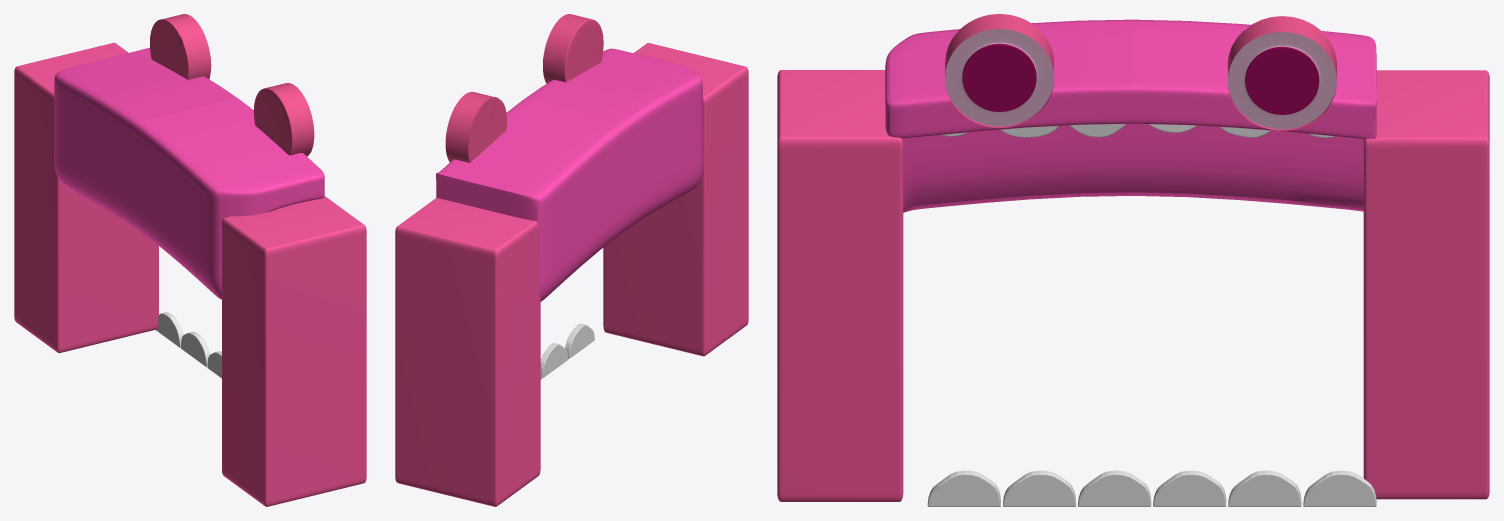
The model's file is DoorDash.fbx.
3 views of the same model, side by side, from view 1: azimuth 30°, elevation 25°; view 2: azimuth 150°, elevation 25°; view 3: azimuth 270°, elevation 25° (orthographic). The views are drawn at different scales.
Parts seen in each view (by area): view 1: Plane.001, Plane.003, Circle.003, Circle.005; view 2: Plane.001, Plane.003, Circle.003, Circle.005; view 3: Plane.001, Plane.003, Circle.003, Circle.005.
Boxes of the visible parts, <box> form: Plane.001: <box>14,42,366,506</box>; Plane.003: <box>54,47,324,299</box>; Circle.003: <box>150,14,314,156</box>; Circle.005: <box>155,312,221,378</box>; Plane.001: <box>395,43,748,506</box>; Plane.003: <box>436,48,702,301</box>; Circle.003: <box>445,14,603,162</box>; Circle.005: <box>540,323,594,379</box>; Plane.001: <box>777,70,1489,501</box>; Plane.003: <box>885,19,1376,212</box>; Circle.003: <box>945,14,1337,130</box>; Circle.005: <box>927,124,1376,506</box>.
Bounding box in the file's own units: 161 × 467 × 629.
